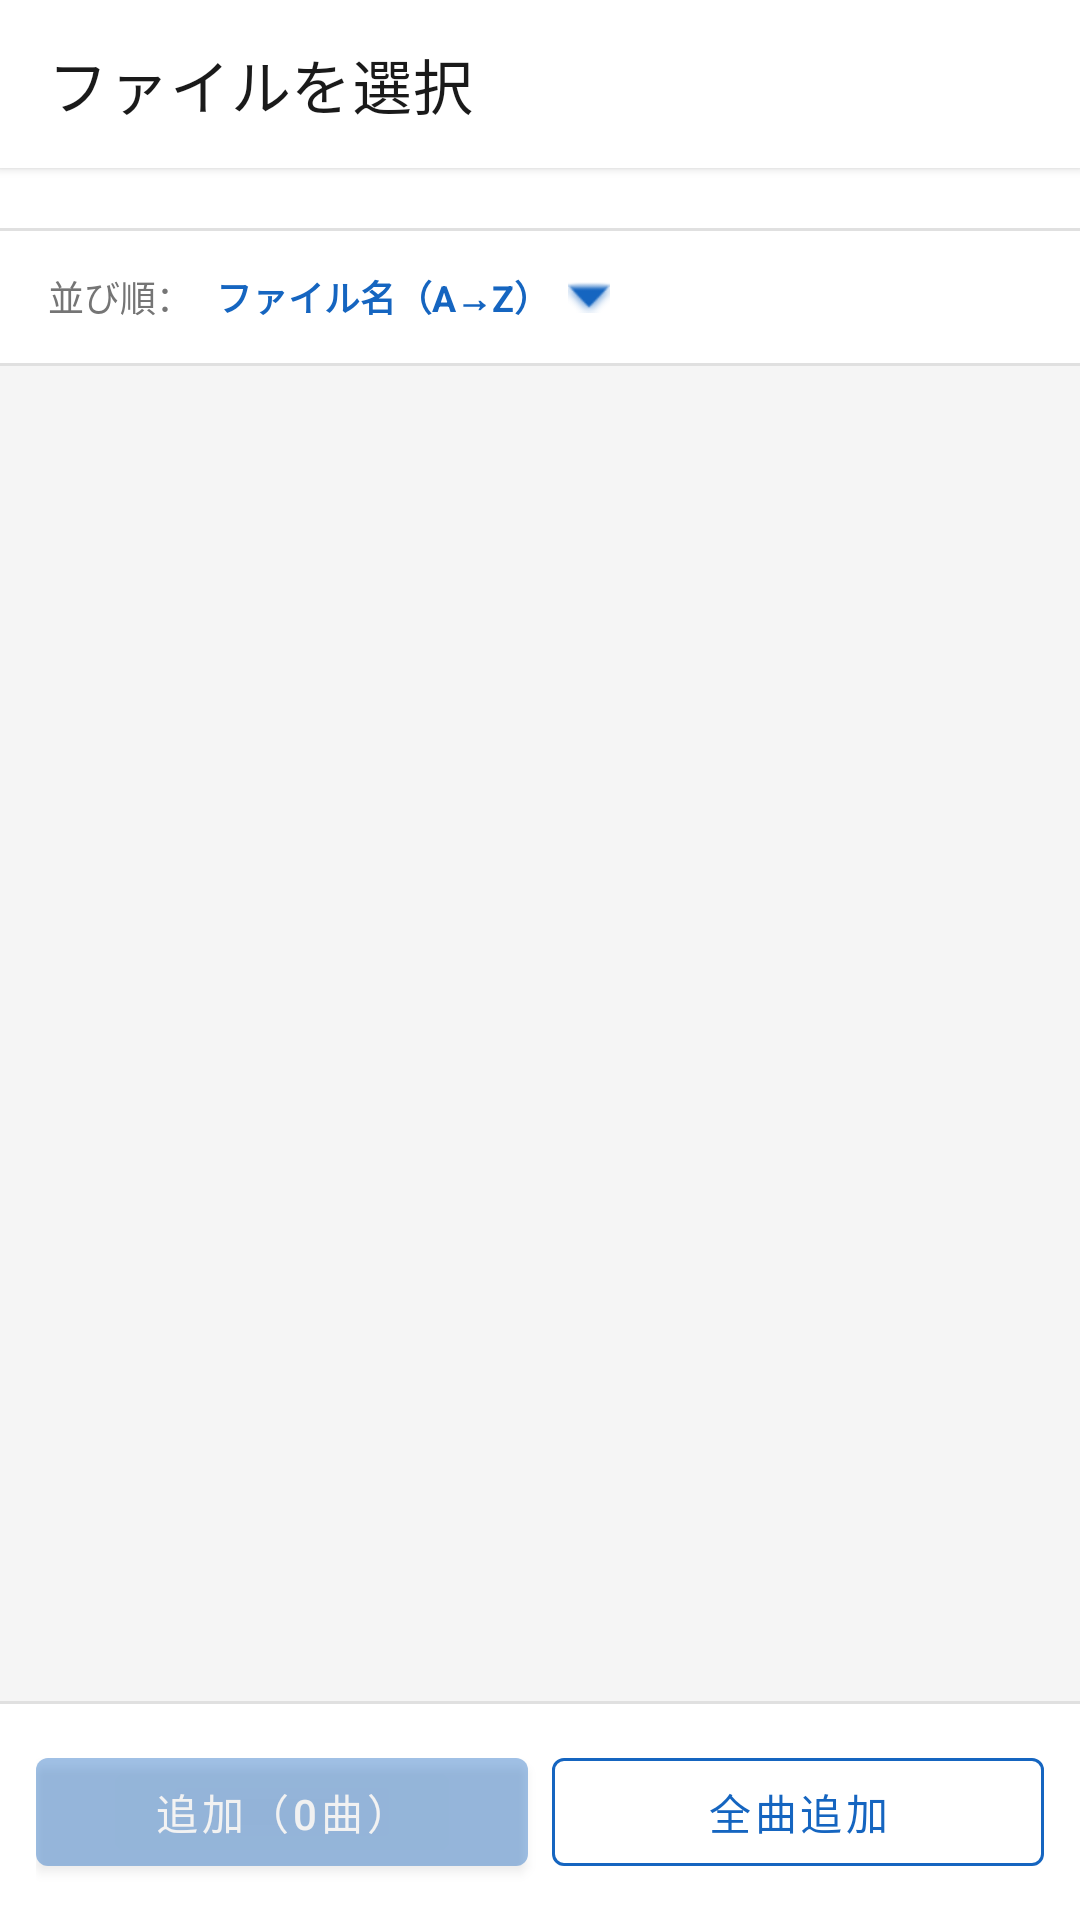

Icon click points for this 1080*1920 phone screenshot, format point (x, y):
arrow down float: point (589, 297)
